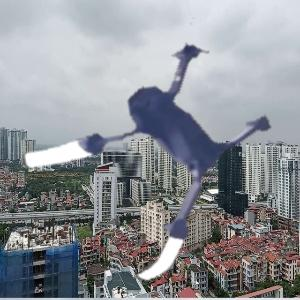drone: (13, 5, 294, 286)
